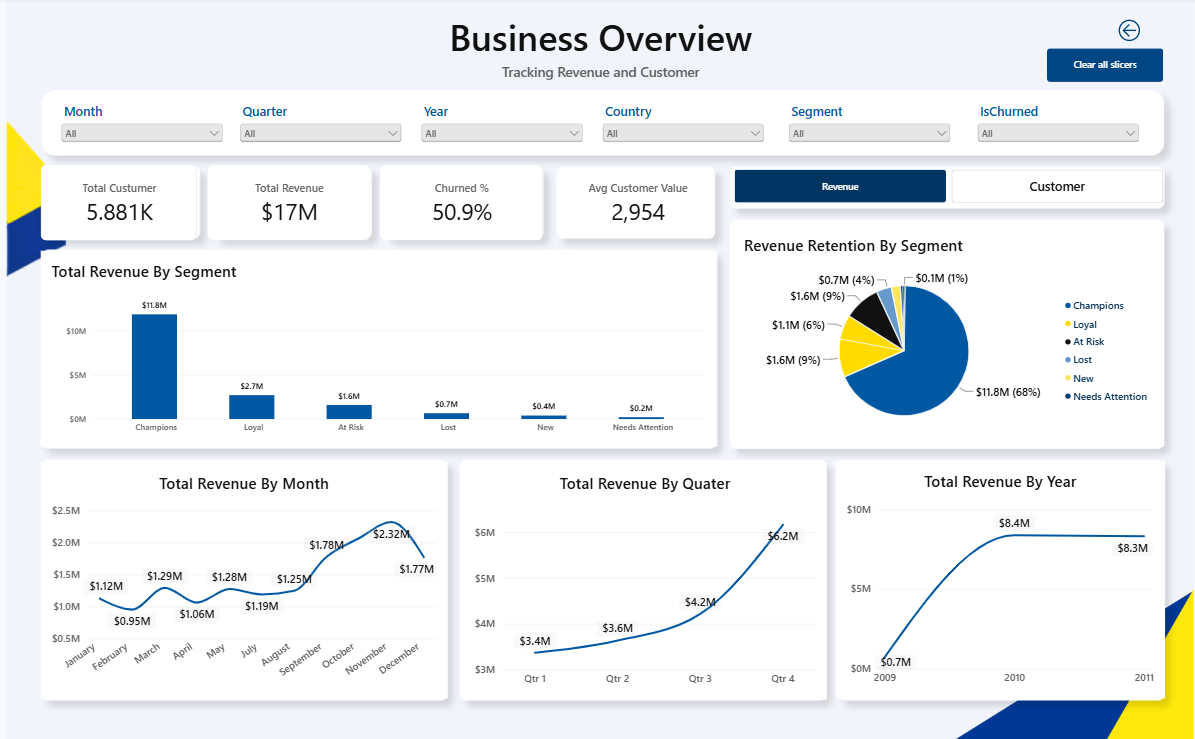

The dashboard page shown, as its layout file describes it:
{"tool":"powerbi","page":{"name":"Overview","canvas":[2000,1100],"ordinal":1},"visuals":[{"type":"cardVisual","fields":{"Data":["Sheet1.Total Custumer"]},"box":[174.4,247.5,230.6,112.5],"z":0},{"type":"columnChart","title":"Total Revenue By Segment","fields":{"Category":["Sheet1.Segment"],"Y":["Sheet1.Total Revenue"]},"box":[174.4,375,997.4,288.7],"z":0,"group":"g1"},{"type":"cardVisual","fields":{"Data":["Sheet1.Total Revenue"]},"box":[419.9,247.5,241.8,112.5],"z":1000},{"type":"pieChart","title":"Revenue Retention By Segment","fields":{"Category":["Sheet1.Segment"],"Series":["Sheet1.IsChurned"],"Y":["Sheet1.Total Revenue"]},"box":[1196.2,335.6,635.5,327],"z":1000,"group":"g1"},{"type":"cardVisual","fields":{"Data":["Sheet1.Churned %"]},"box":[674.9,247.5,241.8,112.5],"z":2000},{"type":"lineChart","title":"Total Revenue By Year","fields":{"Category":["Sheet1.InvoiceDate.Variation.Date Hierarchy.Year"],"Y":["Sheet1.Total Revenue"]},"box":[1346.1,684.3,485.6,350.6],"z":2000,"group":"g1"},{"type":"cardVisual","fields":{"Data":["Sheet1.Avg Customer Value"]},"box":[939.3,247.5,232.5,112.5],"z":3000},{"type":"lineChart","title":"Total Revenue By Quater","fields":{"Category":["Sheet1.InvoiceDate.Variation.Date Hierarchy.Quarter"],"Y":["Sheet1.Total Revenue"]},"box":[796.8,686.2,536.2,350.6],"z":3000,"group":"g1"},{"type":"slicer","fields":{"Values":["Sheet1.InvoiceMonth.Variation.Date Hierarchy.Month"]},"box":[200.6,155.6,247.5,67.5],"z":4000},{"type":"lineChart","title":"Total Revenue By Month","fields":{"Category":["Sheet1.InvoiceDate.Variation.Date Hierarchy.Month"],"Y":["Sheet1.Total Revenue"]},"box":[174.4,686.2,599.9,348.7],"z":4000,"group":"g1"},{"type":"slicer","fields":{"Values":["Sheet1.InvoiceMonth.Variation.Date Hierarchy.Quarter"]},"box":[464.9,155.6,247.5,67.5],"z":5000},{"type":"slicer","fields":{"Values":["Sheet1.InvoiceMonth.Variation.Date Hierarchy.Year"]},"box":[731.2,155.6,247.5,76.9],"z":6000},{"type":"slicer","fields":{"Values":["Sheet1.Country"]},"box":[999.3,155.6,247.5,67.5],"z":7000},{"type":"slicer","fields":{"Values":["Sheet1.Segment"]},"box":[1273,155.6,247.5,67.5],"z":8000},{"type":"slicer","fields":{"Values":["Sheet1.IsChurned"]},"box":[1552.3,155.6,247.5,67.5],"z":9000},{"type":"group","id":"g1","title":"Revenue","box":[174.4,335.6,1657.3,701.2],"z":10000},{"type":"bookmarkNavigator","box":[1198.1,254.4,632.2,49.8],"z":12000},{"type":"textbox","title":"Business Overview","box":[443.4,22.1,1113.3,105.1],"z":13000},{"type":"actionButton","box":[1730.7,22.1,99.5,53.5],"z":14000},{"type":"actionButton","box":[1658.9,75.6,171.4,49.8],"z":15000}]}

Visuals, with their boxes on the page's 2000x1100 design canvas (x1, y1, x2, y2). These are canvas units, not pixel positions in the 1195x739 screenshot, which may show the page scaled, cropped or inside an application window:
cardVisual - Sheet1.Total Custumer: bbox=(174, 248, 405, 360)
"Total Revenue By Segment" columnChart: bbox=(174, 375, 1172, 664)
cardVisual - Sheet1.Total Revenue: bbox=(420, 248, 662, 360)
"Revenue Retention By Segment" pieChart: bbox=(1196, 336, 1832, 663)
cardVisual - Sheet1.Churned %: bbox=(675, 248, 917, 360)
"Total Revenue By Year" lineChart: bbox=(1346, 684, 1832, 1035)
cardVisual - Sheet1.Avg Customer Value: bbox=(939, 248, 1172, 360)
"Total Revenue By Quater" lineChart: bbox=(797, 686, 1333, 1037)
slicer - Sheet1.InvoiceMonth.Variation.Date Hierarchy.Month: bbox=(201, 156, 448, 223)
"Total Revenue By Month" lineChart: bbox=(174, 686, 774, 1035)
slicer - Sheet1.InvoiceMonth.Variation.Date Hierarchy.Quarter: bbox=(465, 156, 712, 223)
slicer - Sheet1.InvoiceMonth.Variation.Date Hierarchy.Year: bbox=(731, 156, 979, 232)
slicer - Sheet1.Country: bbox=(999, 156, 1247, 223)
slicer - Sheet1.Segment: bbox=(1273, 156, 1520, 223)
slicer - Sheet1.IsChurned: bbox=(1552, 156, 1800, 223)
"Revenue" group: bbox=(174, 336, 1832, 1037)
bookmarkNavigator: bbox=(1198, 254, 1830, 304)
"Business Overview" textbox: bbox=(443, 22, 1557, 127)
actionButton: bbox=(1731, 22, 1830, 76)
actionButton: bbox=(1659, 76, 1830, 125)
